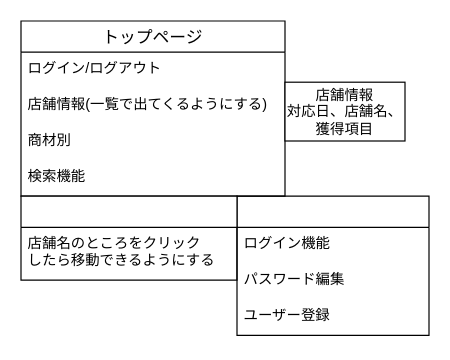
Image size: 450x360. Some labels were removed from this diagram. The box of each missing label's shape, as (x1, y1, x2, y2) in pixels:
ユーザーページ: (236, 195, 429, 335)
店舗詳細: (20, 195, 237, 280)
